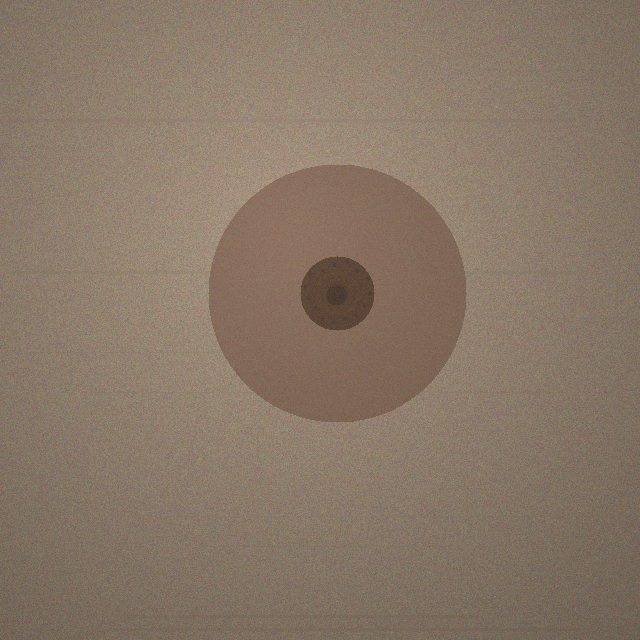cold_weld: (208, 164, 466, 422)
